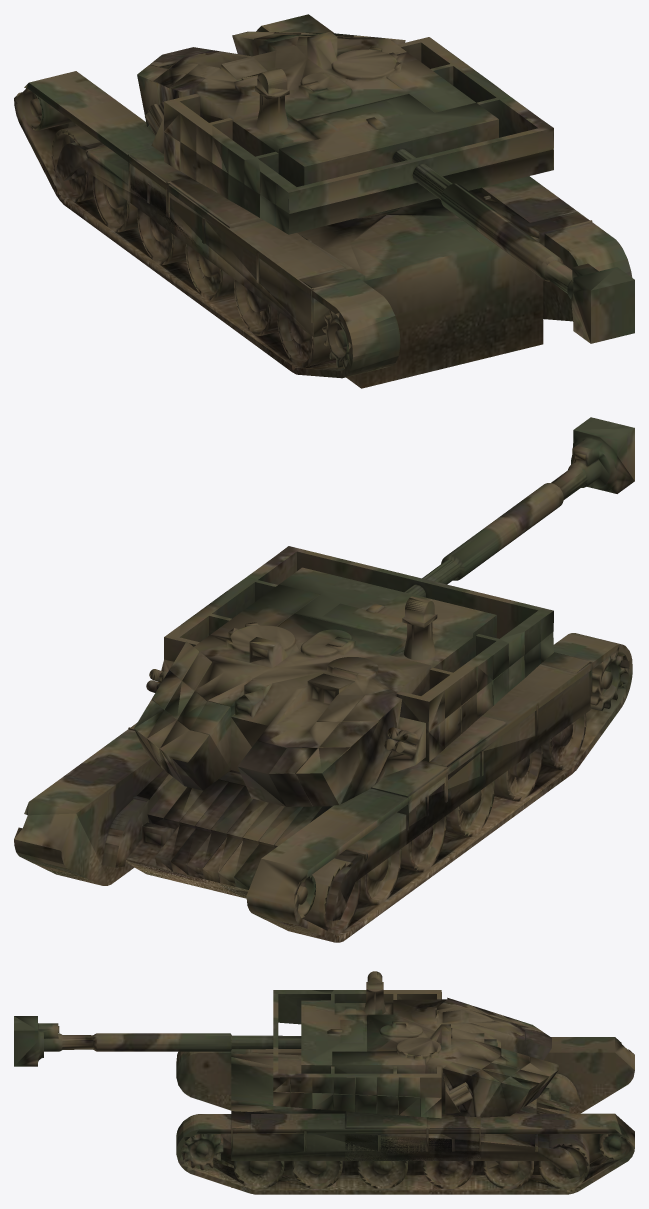
Rendered from mbt_type99.glb.
3 views of the same model, one above another, from view 1: azimuth 30°, elevation 25°; view 2: azimuth 150°, elevation 25°; view 3: azimuth 270°, elevation 25° (orthographic). The views are drawn at different scales.
Visible parts, largest first — view 1: ZTZ_99A_Body_1; view 2: ZTZ_99A_Body_1; view 3: ZTZ_99A_Body_1.
Part boxes in pixels (x1,y1,x2,y2): ZTZ_99A_Body_1: (14, 14, 634, 388); ZTZ_99A_Body_1: (14, 417, 634, 942); ZTZ_99A_Body_1: (14, 971, 634, 1194).
Size of the model in its own units: 3.87 by 3.11 by 11.
Materials: 1 (1 with a texture image).
